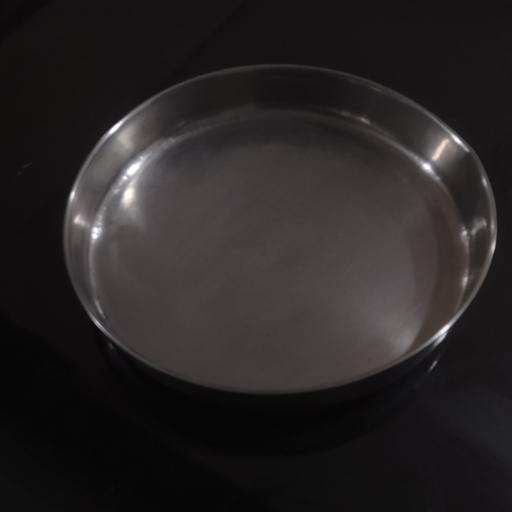plate: (63, 65, 497, 410)
